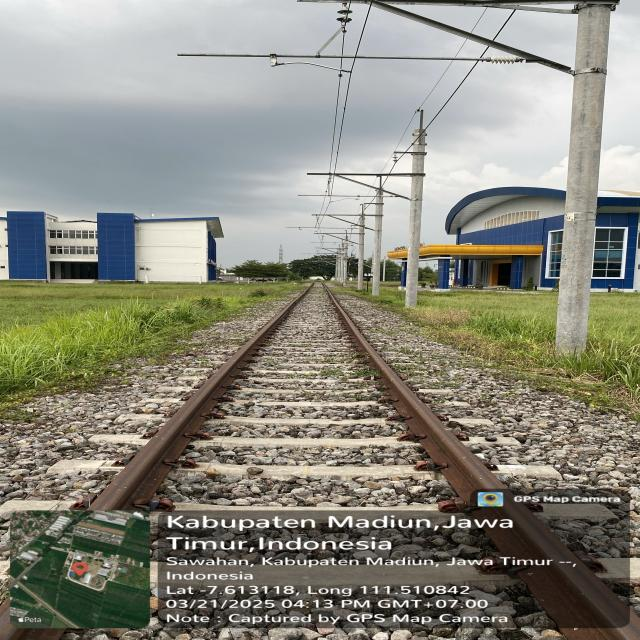rail-detection: (323, 286, 640, 640), (90, 290, 309, 510)
